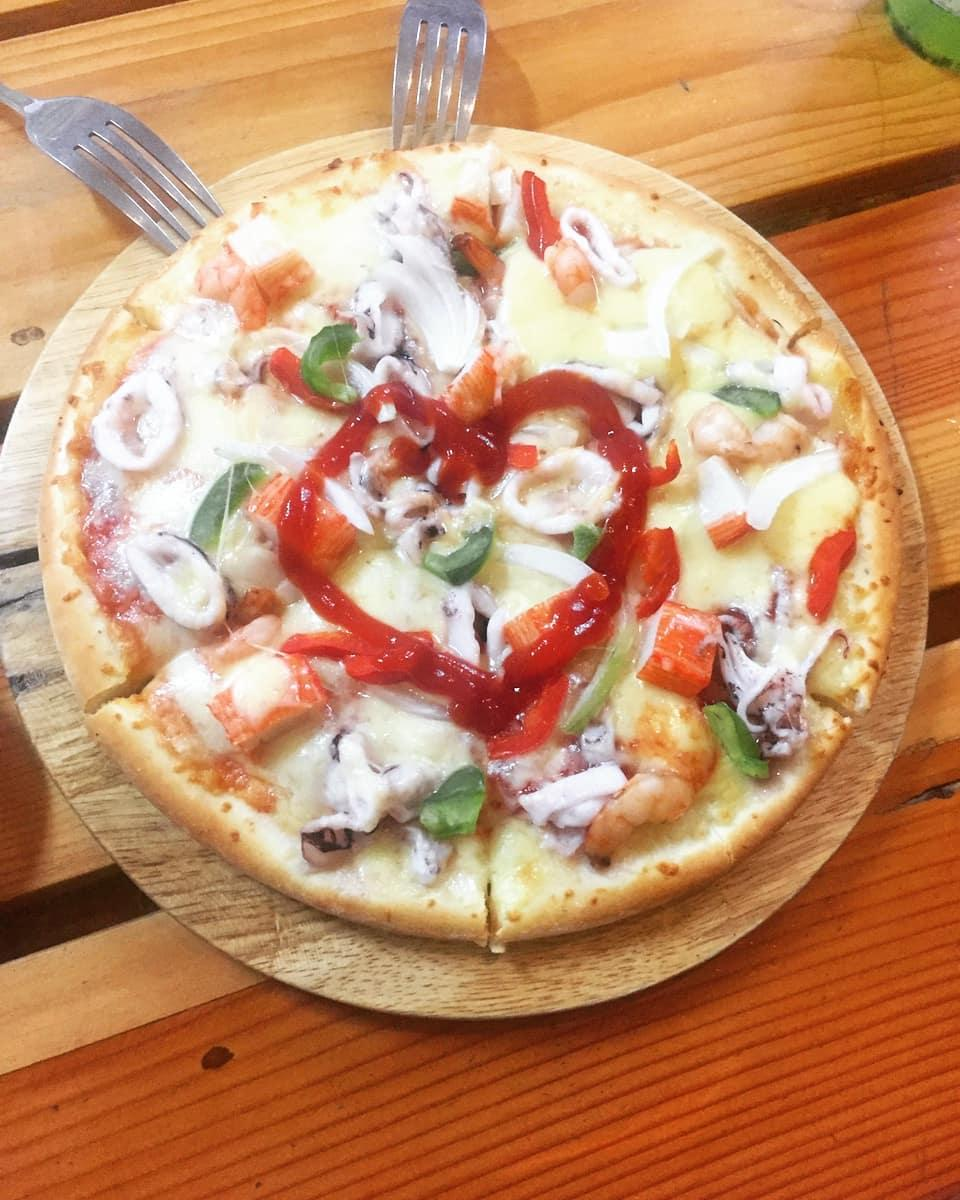Peppers: (212, 656, 330, 746), (248, 476, 353, 573), (504, 589, 602, 666), (636, 603, 718, 693), (183, 457, 249, 552), (701, 701, 774, 783), (418, 523, 494, 589), (423, 766, 488, 839), (810, 523, 855, 621), (305, 323, 359, 404), (703, 455, 747, 548), (520, 165, 565, 255), (712, 382, 781, 419), (456, 232, 504, 285), (269, 346, 304, 402), (644, 441, 681, 487), (499, 439, 539, 472)
Pizza: (37, 142, 899, 948)
